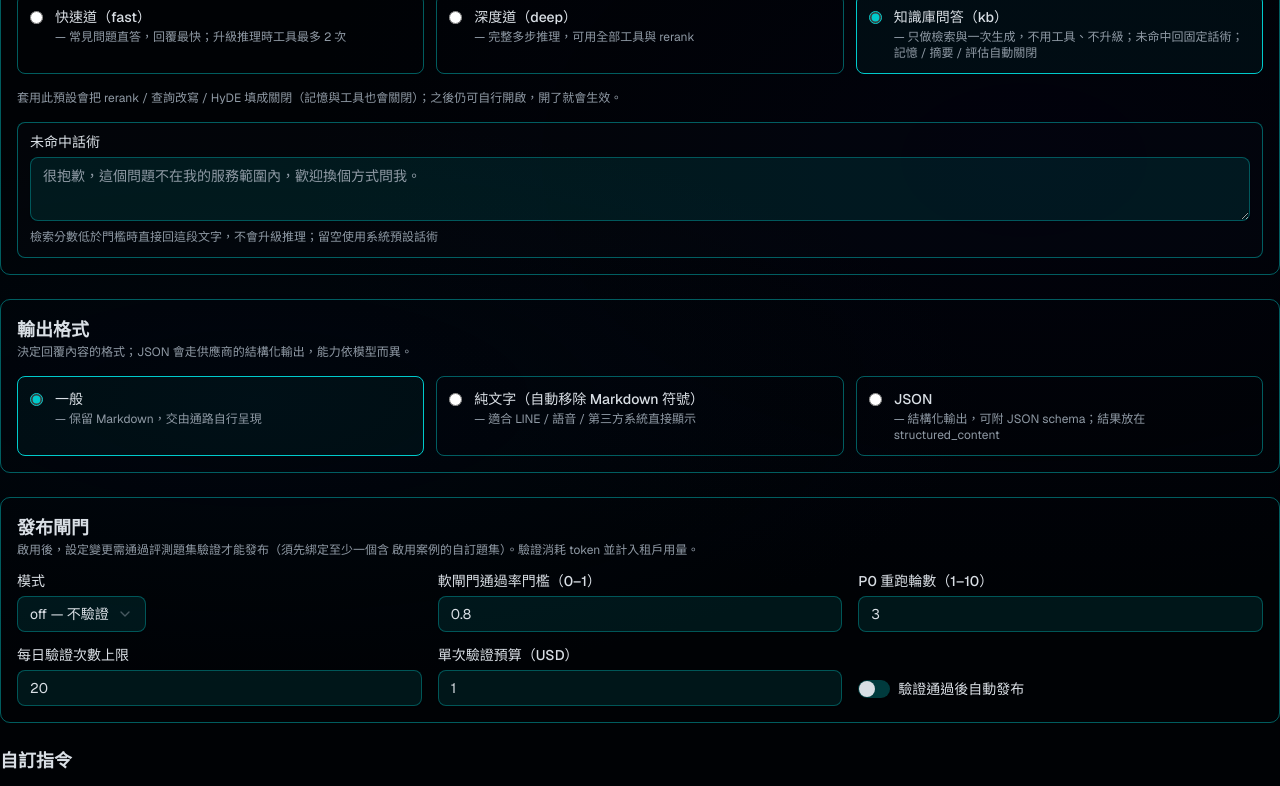
Scenario: BotDetailForm › kb mode & output format (Issue #70) › should switch 未命中話術 placeholder / helper text when output_format is json
What coordinates should you click on to do the following:
click the radio button labelled "JSON — 結構化輸出，可附 JSON schema；結果放在 structured_content"
I would click on:
 (875, 400)
Its box is [869, 393, 882, 406].
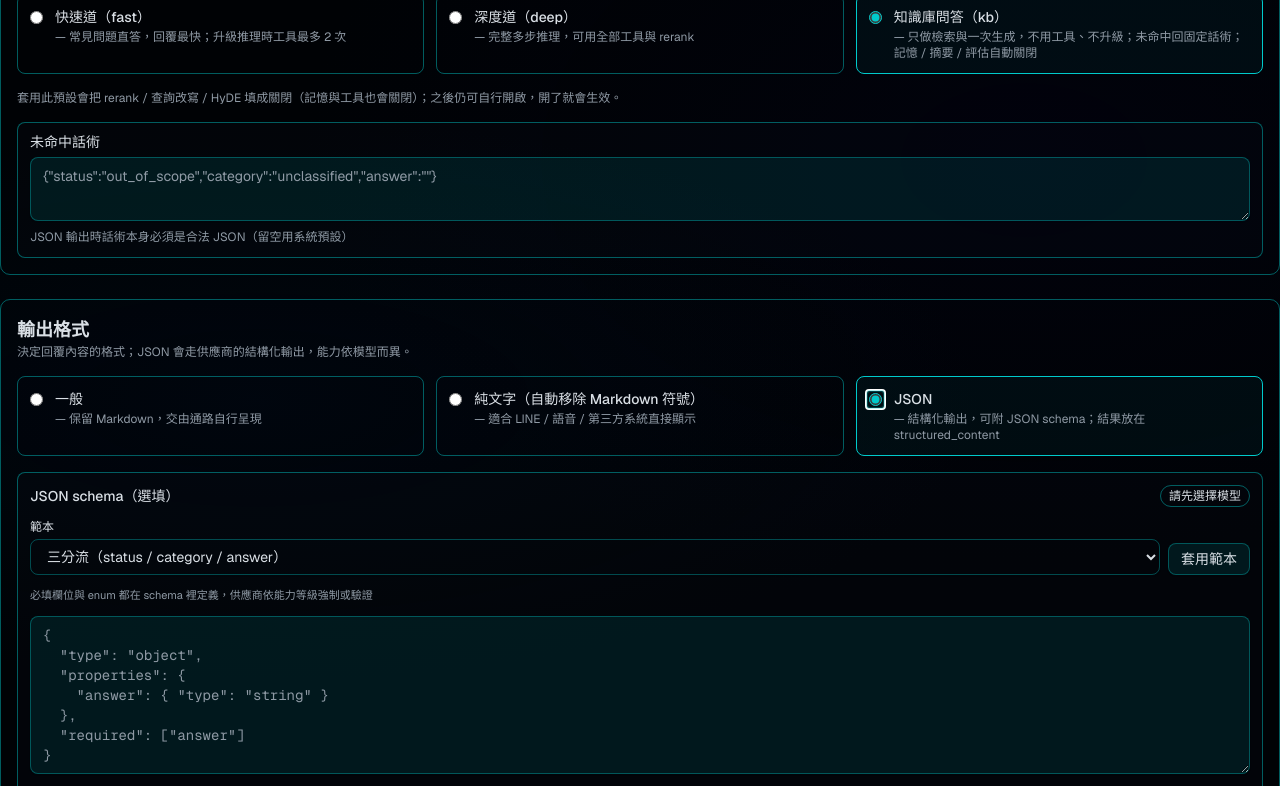
Check: the text "JSON 輸出時話術本身必須是合法 JSON（留空用系統預設）" is shown, box [30, 229, 354, 245]
